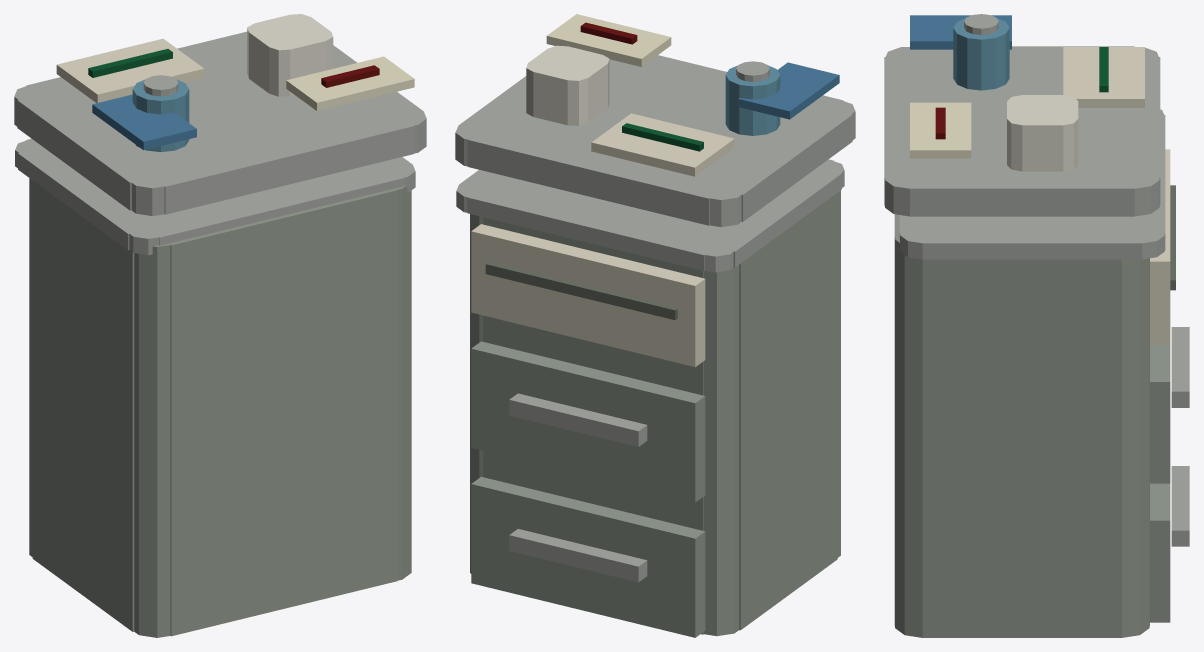
Rendered from bedside_table.obj.
3 views of the same model, side by side, from view 1: azimuth 30°, elevation 25°; view 2: azimuth 150°, elevation 25°; view 3: azimuth 270°, elevation 25° (orthographic). The views are drawn at different scales.
Parts seen in each view (by area): view 1: bedside_table; view 2: bedside_table; view 3: bedside_table.
Boxes of the visible parts, x1,y1,x2,y2 form: bedside_table: [14, 14, 426, 637]; bedside_table: [455, 14, 855, 637]; bedside_table: [884, 14, 1189, 637].
Bounding box in the file's own units: 0.66 × 1.1 × 0.5975.
